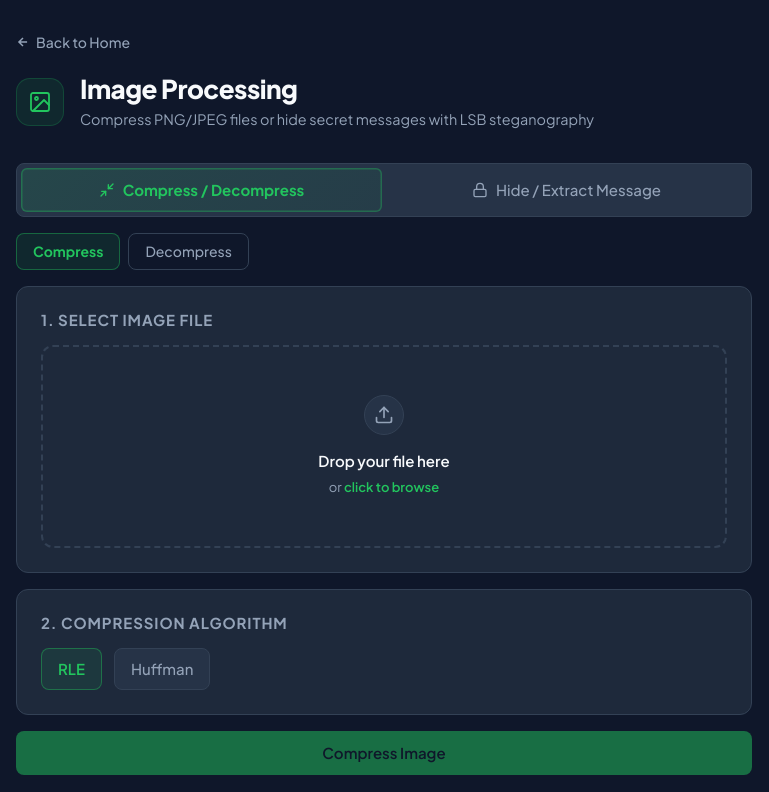
ImagePage › switches to stego mode when Hide/Extract tab is clicked
This screenshot has width=769, height=792.
Click the tab "Hide / Extract Message" at (566,190), box [386,168,747,212]
(page scrolled)
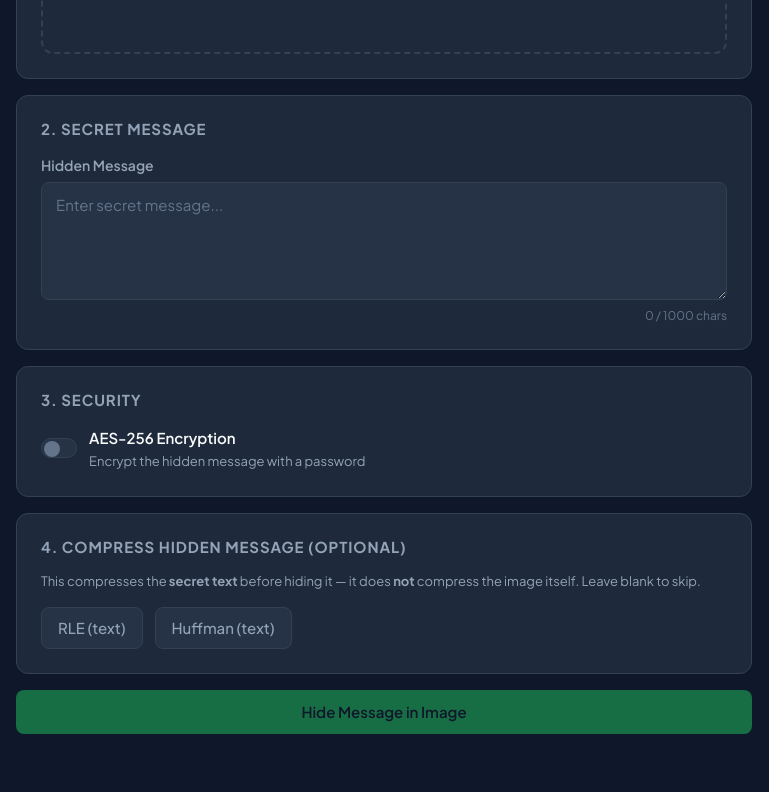
Check: the text "Hide Message in Image" is shown, box [301,700,467,724]
Check: the button "Compress Image" is gone
